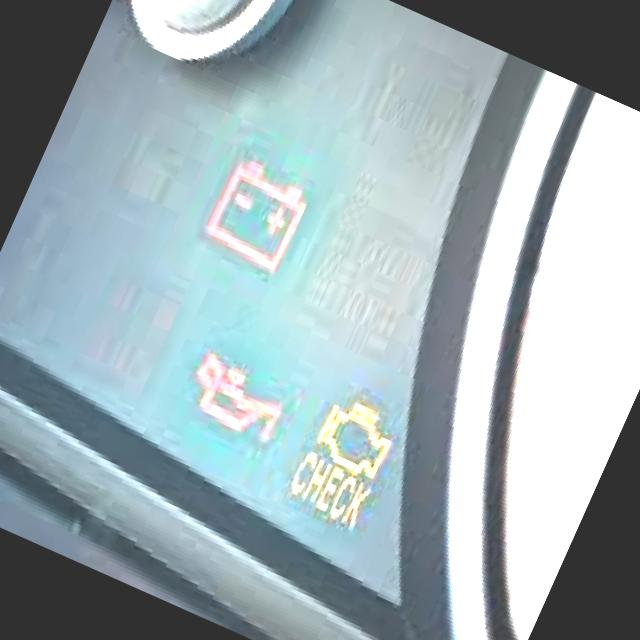kontrolka: (274, 368, 422, 550), (166, 326, 311, 471), (188, 142, 326, 290)
